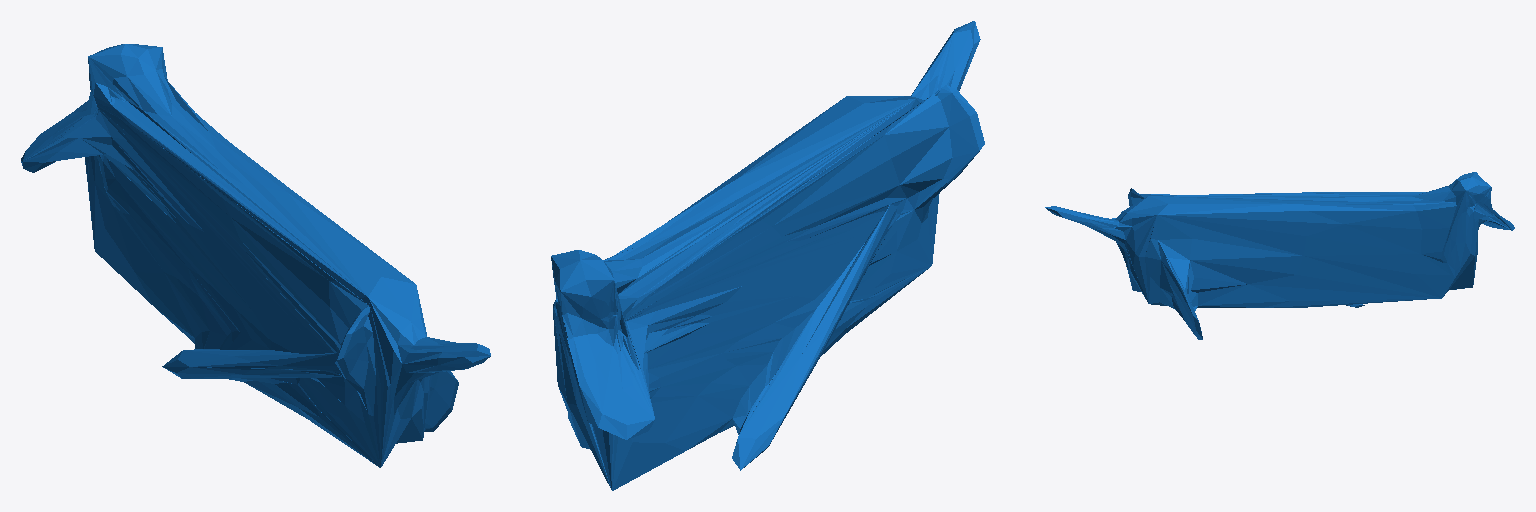
The robot description file, URDF, robot "blob809":

<robot name="blob809">
  <link name="random_obj_809">
    <contact>
      <lateral_friction value="1.0"/>
      <rolling_friction value="0.0"/>
      <inertia_scaling value="3.0"/>
      <contact_cfm value="0.0"/>
      <contact_erp value="1.0"/>
    </contact>
    <inertial>
      <origin rpy="0 0 0" xyz="0 0 0"/>
      <mass value="0.0265"/>
      <inertia ixx="1" ixy="0" ixz="0" iyy="1" iyz="0" izz="0"/>
    </inertial>
    <visual>
      <origin rpy="0 0 0" xyz="0 0 0"/>
      <geometry>
        <mesh filename="809.obj" scale="0.0073 0.0073 0.0073"/>
      </geometry>
      <material name="blockmat">
        <color rgba="0.14 0.49 0.78 1"/>
      </material>
    </visual>
    <collision>
      <origin rpy="0 0 0" xyz="0 0 0"/>
      <geometry>
        <mesh filename="809_coll.obj" scale="0.0073 0.0073 0.0073"/>
      </geometry>
    </collision>
  </link>
</robot>

--- Facts derived from the render (not from the file) ---
3 views of the same robot in one strip: view 1: azimuth 30°, elevation 25°; view 2: azimuth 150°, elevation 25°; view 3: azimuth 270°, elevation 25° (orthographic).
Robot: blob809 — 1 links, 0 joints (none); root link random_obj_809; default pose: all joints at 0.
Links seen in each view (by area): view 1: random_obj_809; view 2: random_obj_809; view 3: random_obj_809.
Boxes of the visible links, x1,y1,x2,y2 form: random_obj_809: [21, 44, 490, 467]; random_obj_809: [551, 21, 984, 490]; random_obj_809: [1045, 172, 1514, 339].
Bounding box of the posed robot: 0.0325 × 0.1188 × 0.0404 m (x, y, z).
1 mesh visuals loaded from 1 distinct referenced files (1 OBJ).
